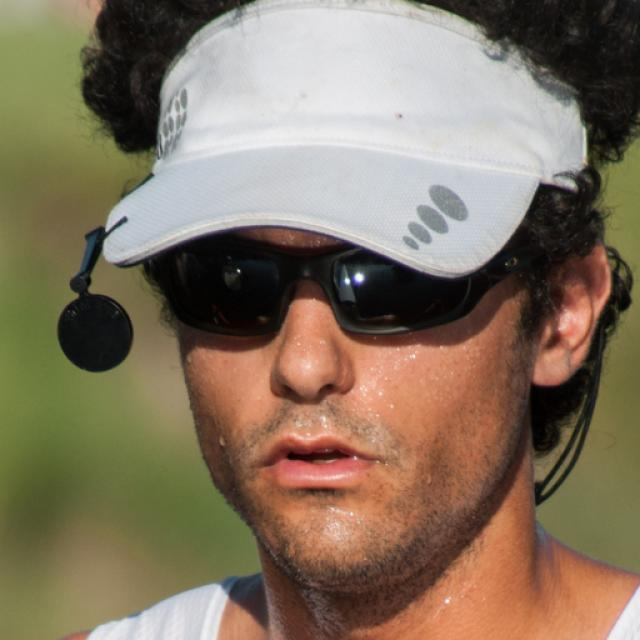neutral: (180, 186, 526, 586)
